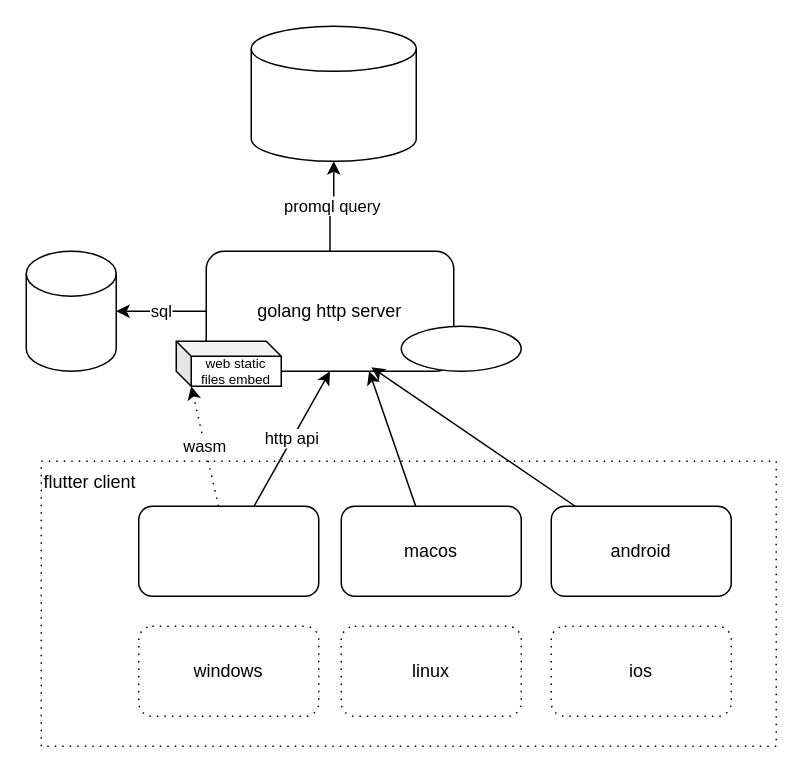
Some shapes in this 803 by 773 pixel diagram are drawn without their labels. Each missing label, with the centre of its shape:
config database: point (70, 310)
local cache: point (460, 348)
VictoriaMetrics / prometheus: point (333, 93)
web: point (228, 550)
